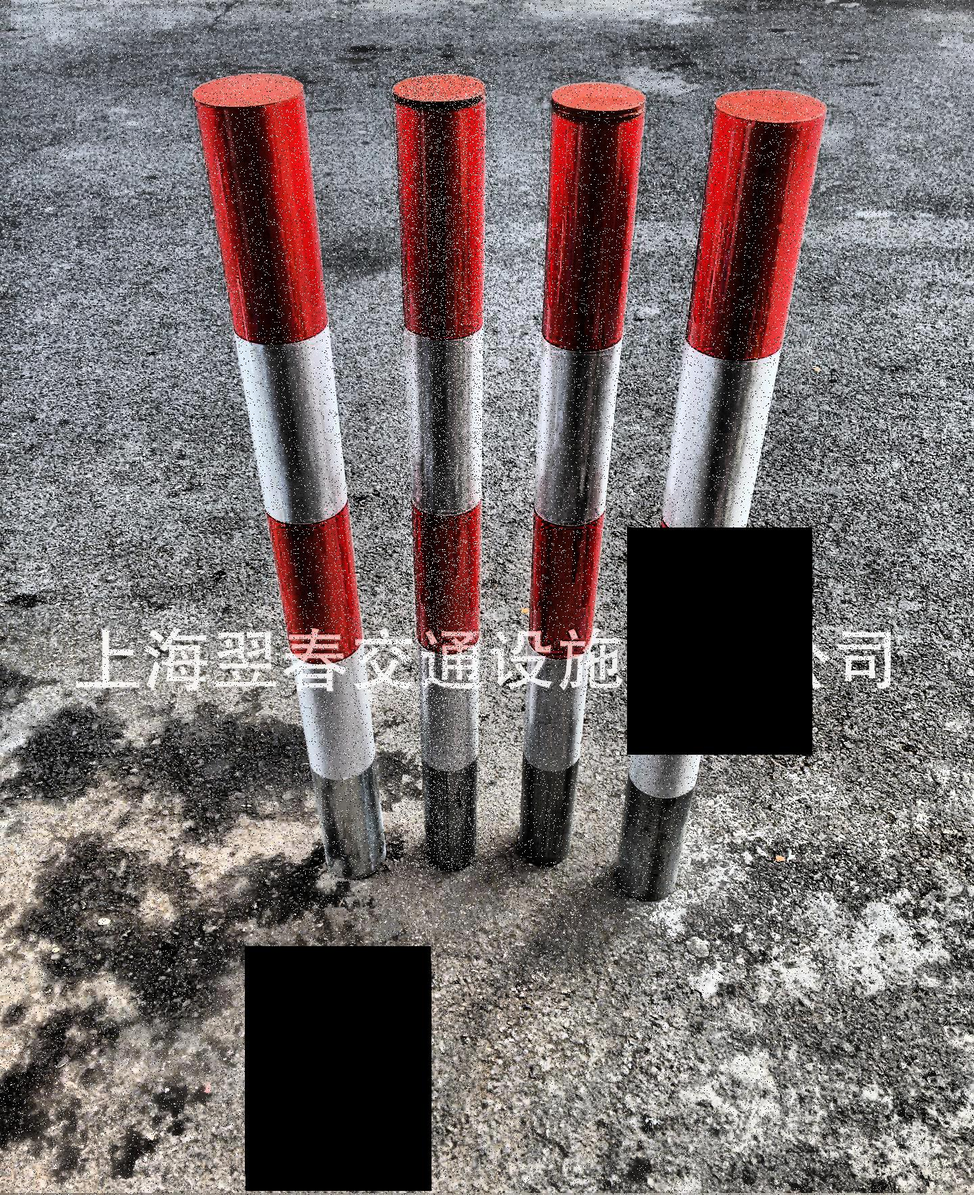bench: (392, 57, 498, 872)
